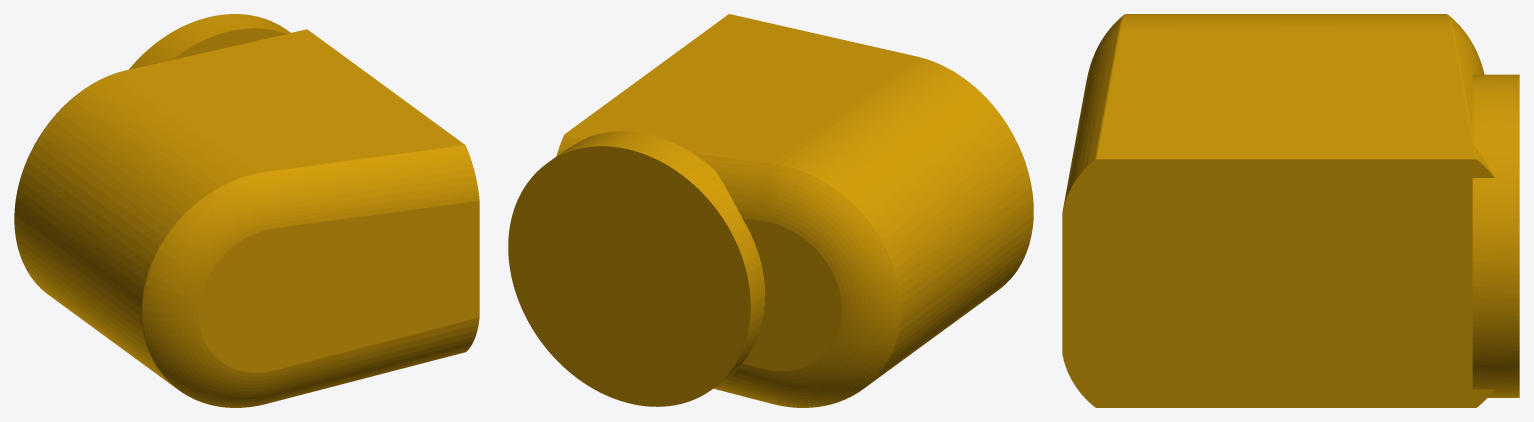
3 views of the same model, side by side, from view 1: azimuth 30°, elevation 25°; view 2: azimuth 150°, elevation 25°; view 3: azimuth 270°, elevation 25° (orthographic). The views are drawn at different scales.
Parts seen in each view (by area): view 1: link_4; view 2: link_4; view 3: link_4.
Part boxes in pixels (bbox=[...]): link_4: bbox=[14, 14, 479, 407]; link_4: bbox=[508, 14, 1033, 407]; link_4: bbox=[1062, 14, 1519, 407].
Bounding box in the file's own units: 0.192 × 0.1841 × 0.13.
